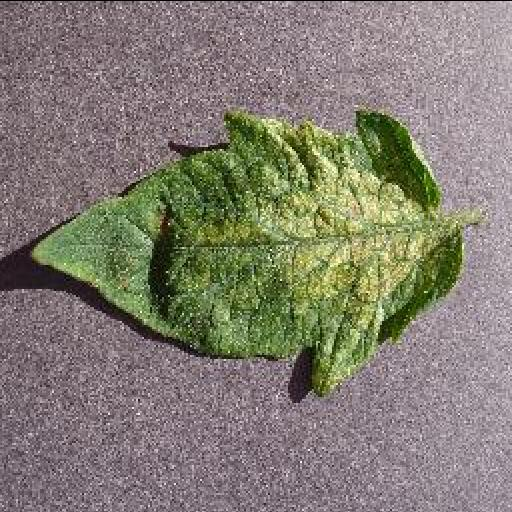disease_tomato: (27, 104, 461, 394)
